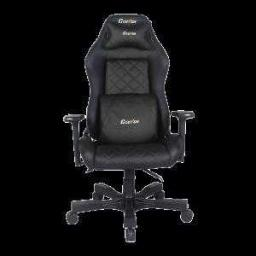Chair: (67, 14, 195, 243)
